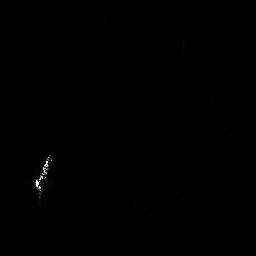ship: (29, 150, 58, 194)
